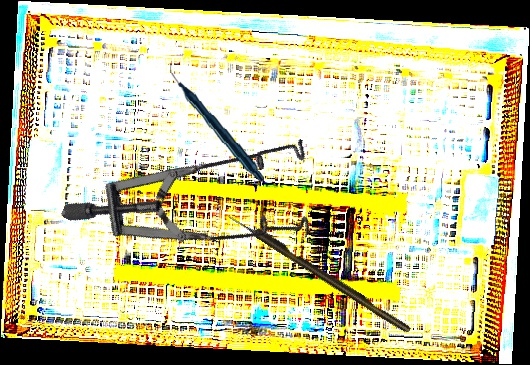Handpiece: (169, 56, 265, 188)
Hook Surgical: (226, 209, 412, 336)
Speculum: (60, 57, 345, 320)
